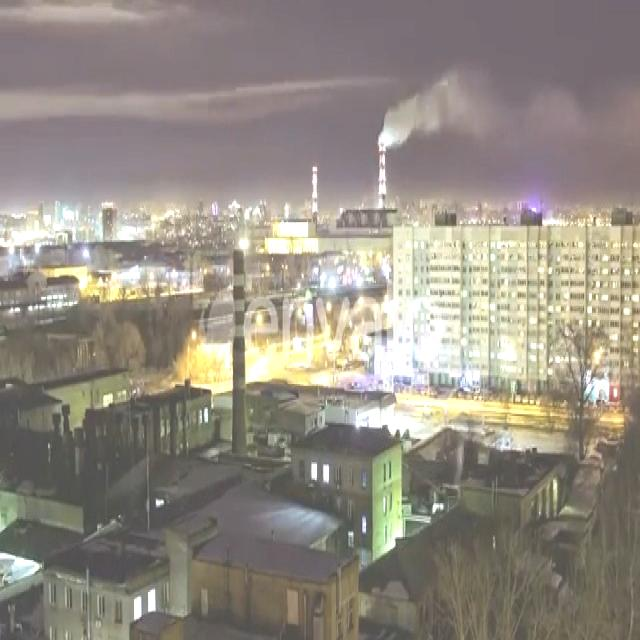smoke: (378, 69, 639, 148)
